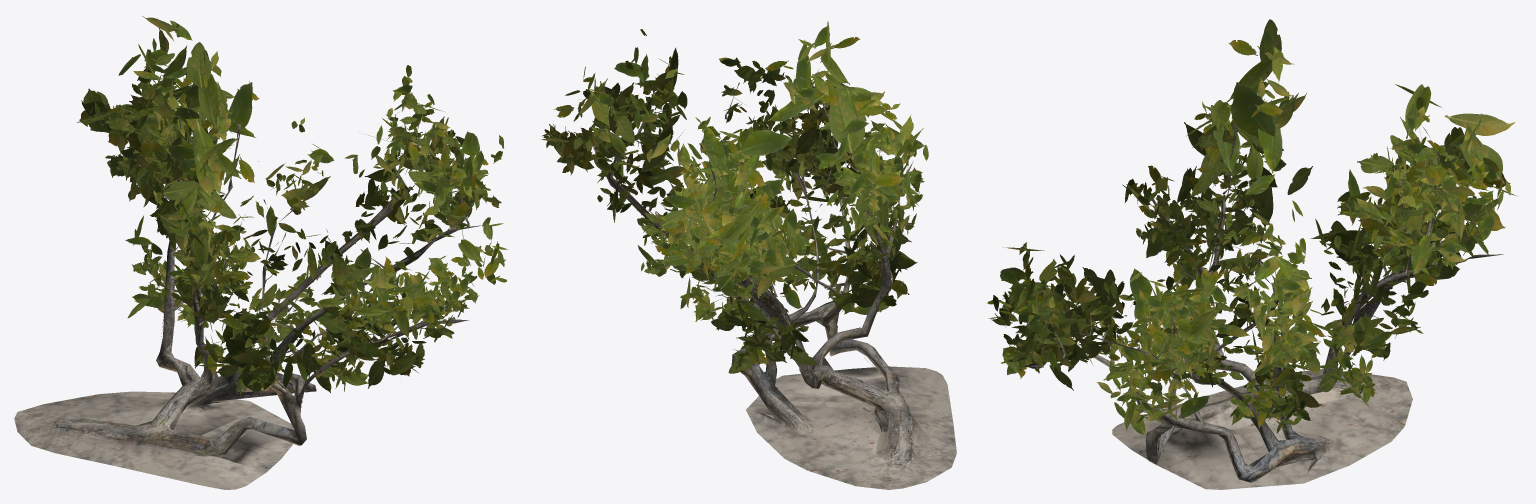
The model's file is island_tree_03.glb.
3 views of the same model, side by side, from view 1: azimuth 30°, elevation 25°; view 2: azimuth 150°, elevation 25°; view 3: azimuth 270°, elevation 25° (orthographic). The views are drawn at different scales.
Parts seen in each view (by area): view 1: island_tree_03_LOD0 (×2); view 2: island_tree_03_LOD0 (×2); view 3: island_tree_03_LOD0 (×2).
Part boxes in pixels (<box>): island_tree_03_LOD0 (×2): <box>14,16,507,489</box>; island_tree_03_LOD0 (×2): <box>541,21,956,489</box>; island_tree_03_LOD0 (×2): <box>987,19,1518,489</box>.
Bounding box in the file's own units: 2.98 × 2.66 × 2.99.
Materials: 3 (3 with a texture image).
